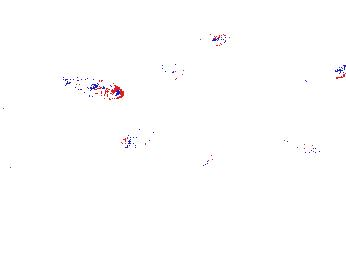X-ray fish: (230, 186, 266, 217), (286, 130, 323, 155)
red belly glassfish: (67, 77, 124, 101), (193, 33, 230, 47), (161, 63, 186, 81)
redtail glassfish: (293, 62, 346, 92), (177, 137, 213, 167)
